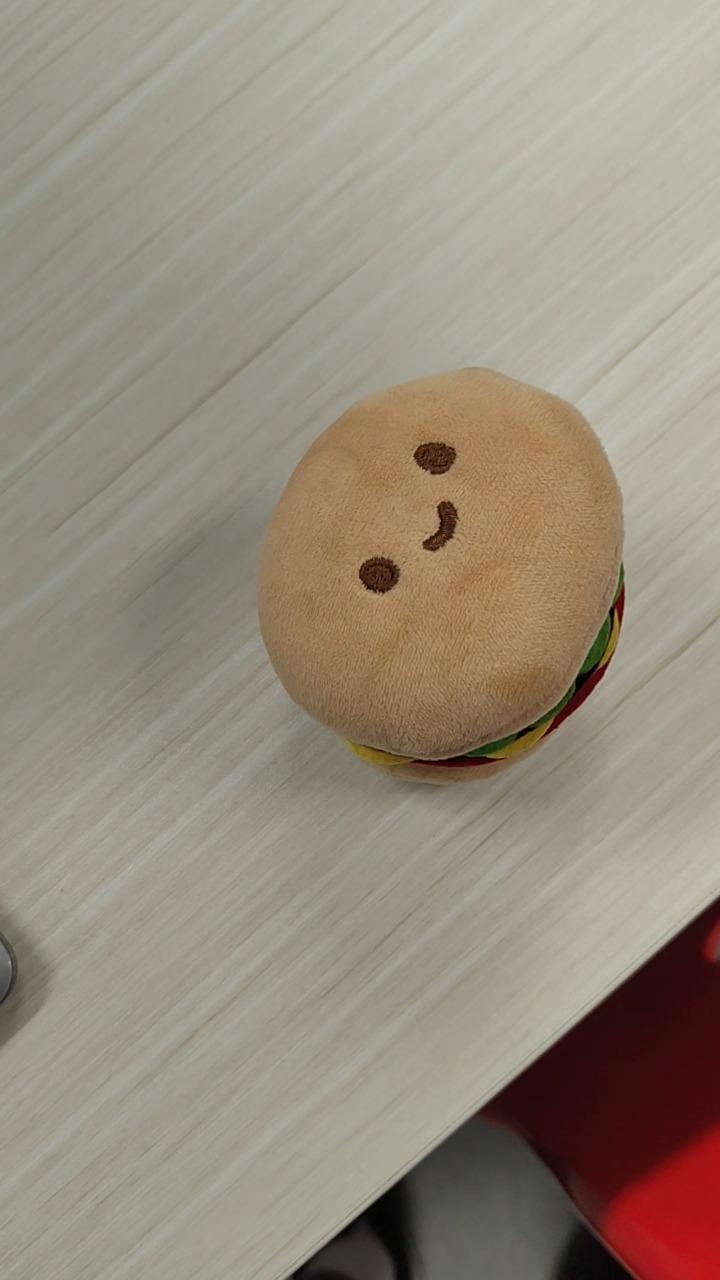hamburger: (255, 364, 627, 787)
